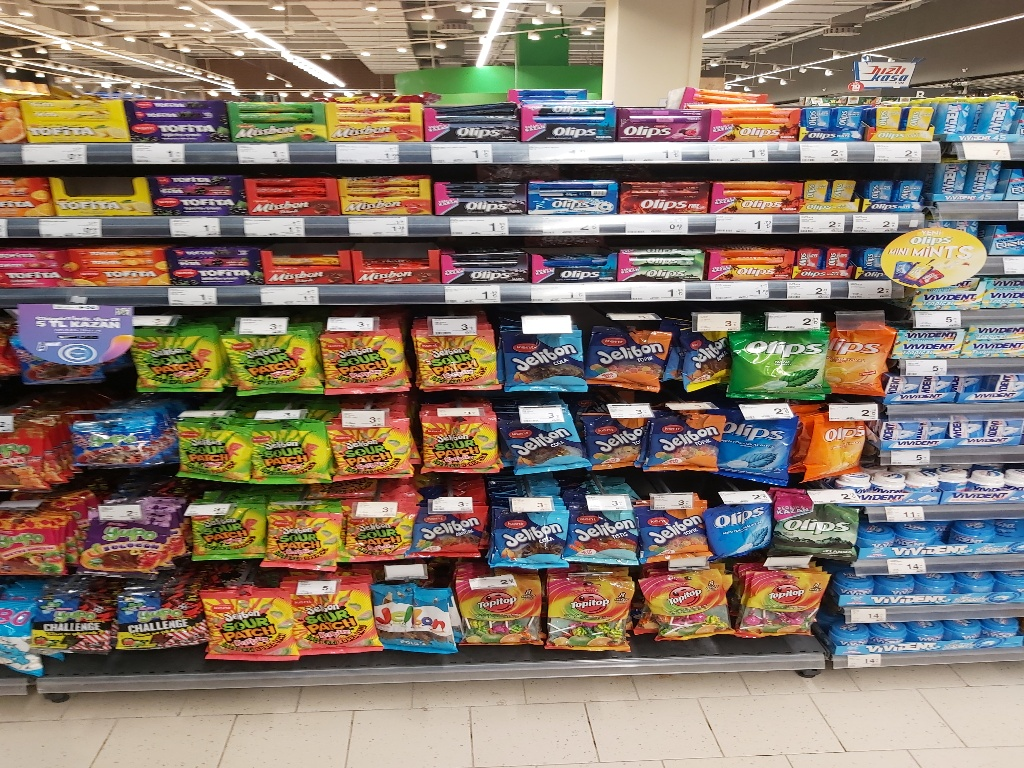urun: (732, 564, 831, 666), (361, 572, 460, 673), (448, 567, 547, 668), (539, 567, 637, 668), (639, 567, 737, 668), (721, 319, 827, 403), (74, 509, 177, 593), (764, 484, 863, 570), (127, 317, 227, 399), (221, 320, 321, 402), (490, 321, 590, 403), (314, 319, 413, 401), (401, 315, 500, 397), (579, 315, 678, 397), (292, 572, 378, 664), (110, 579, 207, 657), (200, 580, 297, 658), (61, 402, 168, 471), (244, 404, 332, 486), (332, 407, 419, 489), (415, 397, 502, 479), (494, 397, 581, 479), (570, 394, 657, 476), (648, 401, 724, 492), (797, 408, 879, 492), (718, 403, 796, 490), (36, 586, 115, 667), (178, 493, 265, 566), (255, 494, 342, 567), (330, 495, 417, 568), (406, 493, 493, 566), (554, 498, 641, 571), (488, 492, 575, 564), (224, 93, 329, 152), (321, 96, 426, 155), (513, 82, 618, 141), (603, 92, 708, 151), (695, 91, 800, 150), (45, 161, 150, 220), (234, 161, 339, 220), (329, 168, 434, 227), (425, 164, 530, 223), (513, 160, 618, 219), (609, 161, 714, 220), (691, 164, 796, 223), (635, 492, 713, 571), (140, 157, 244, 216), (127, 90, 232, 148), (415, 90, 520, 148), (172, 415, 250, 490), (823, 315, 891, 401), (700, 486, 772, 566), (1, 508, 68, 589), (608, 230, 707, 284), (255, 237, 353, 291), (434, 233, 532, 287), (520, 233, 618, 287), (698, 228, 796, 282), (340, 236, 439, 289), (1, 404, 54, 499), (159, 237, 253, 282), (69, 241, 164, 285)
urun2: (20, 91, 125, 150)
